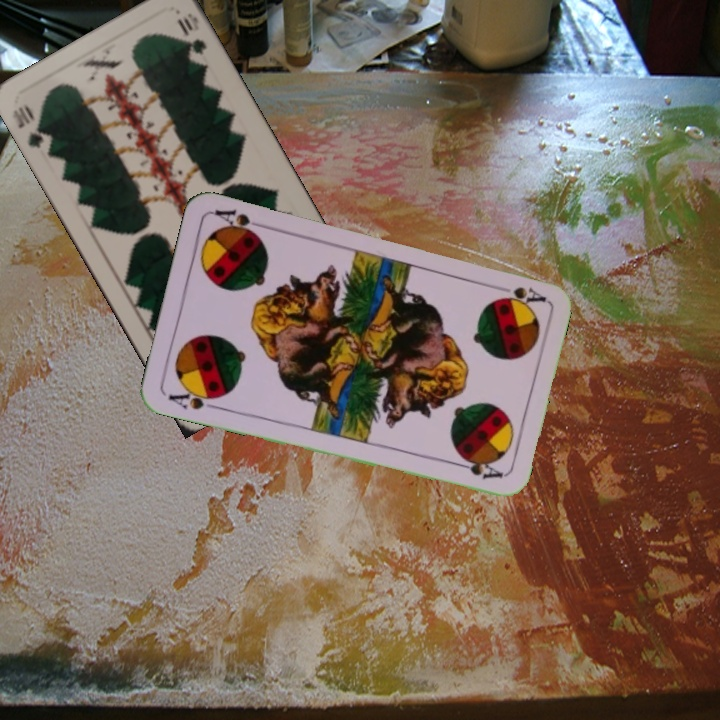G10: (8, 100, 55, 152)
SA: (164, 383, 223, 412), (498, 282, 548, 306)
